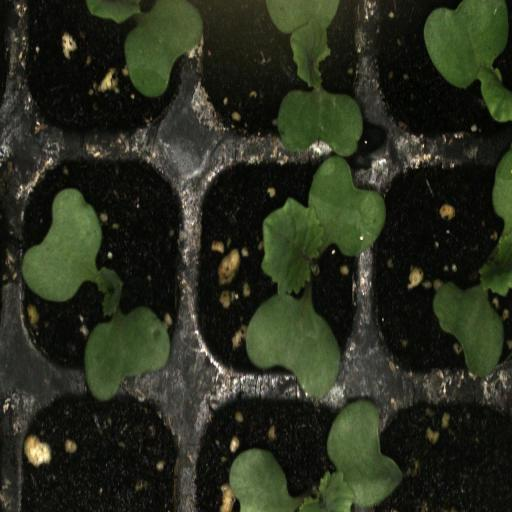Folha: (86, 0, 204, 97), (424, 0, 512, 123)
Germinacao: (190, 148, 367, 386), (12, 150, 188, 382), (366, 148, 512, 382), (191, 0, 369, 149), (192, 385, 367, 512)
